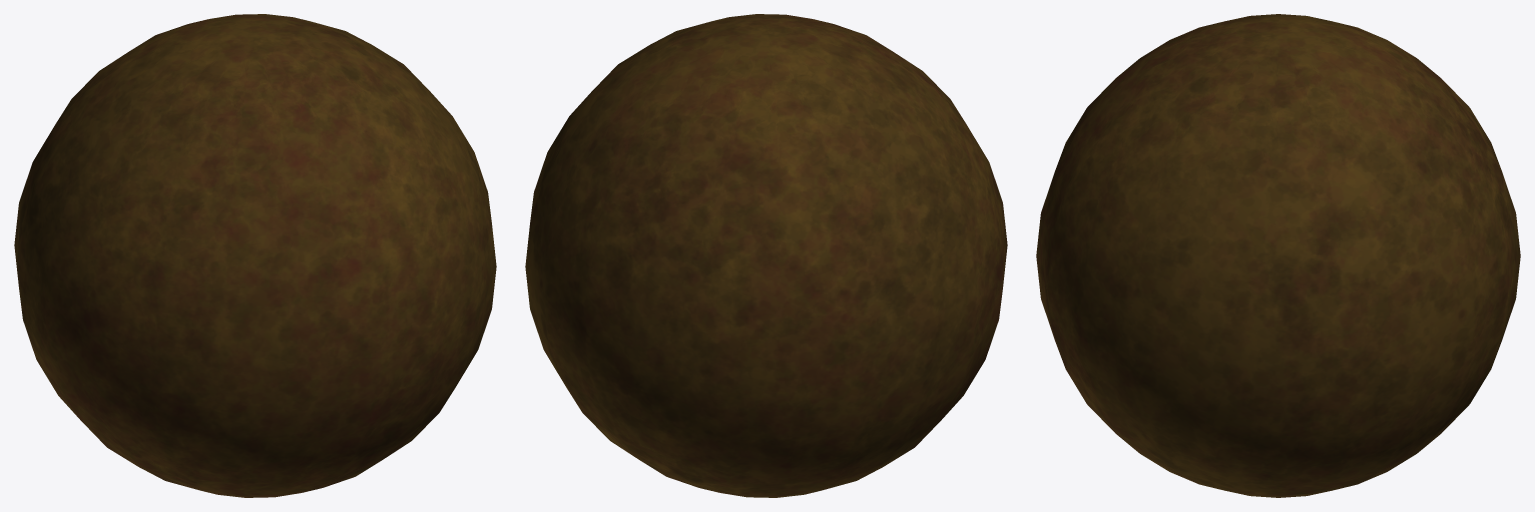
The model's file is Albondiga.fbx.
The picture shows the model from 3 angles, left to right: view 1: azimuth 30°, elevation 25°; view 2: azimuth 150°, elevation 25°; view 3: azimuth 270°, elevation 25°; orthographic projection.
Visible parts, largest first — view 1: Sphere; view 2: Sphere; view 3: Sphere.
Part boxes in pixels (left/top/right/bottom): Sphere: left=14, top=14, right=496, bottom=497; Sphere: left=525, top=14, right=1007, bottom=497; Sphere: left=1036, top=14, right=1520, bottom=497.
Size of the model in its own units: 200 by 200 by 200.
1 material, 1 textured.
